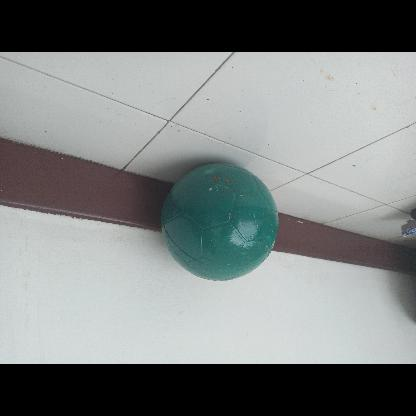green_ball: (161, 163, 279, 281)
